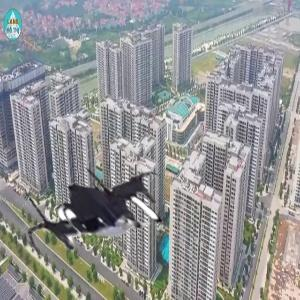drone: (20, 131, 179, 290)
